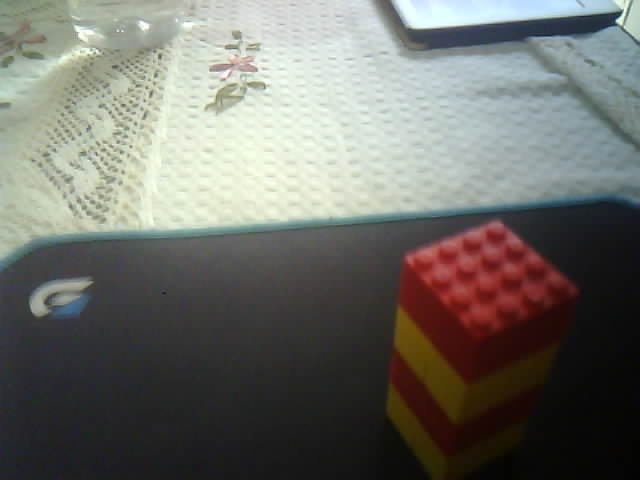lego: (384, 218, 582, 480)
